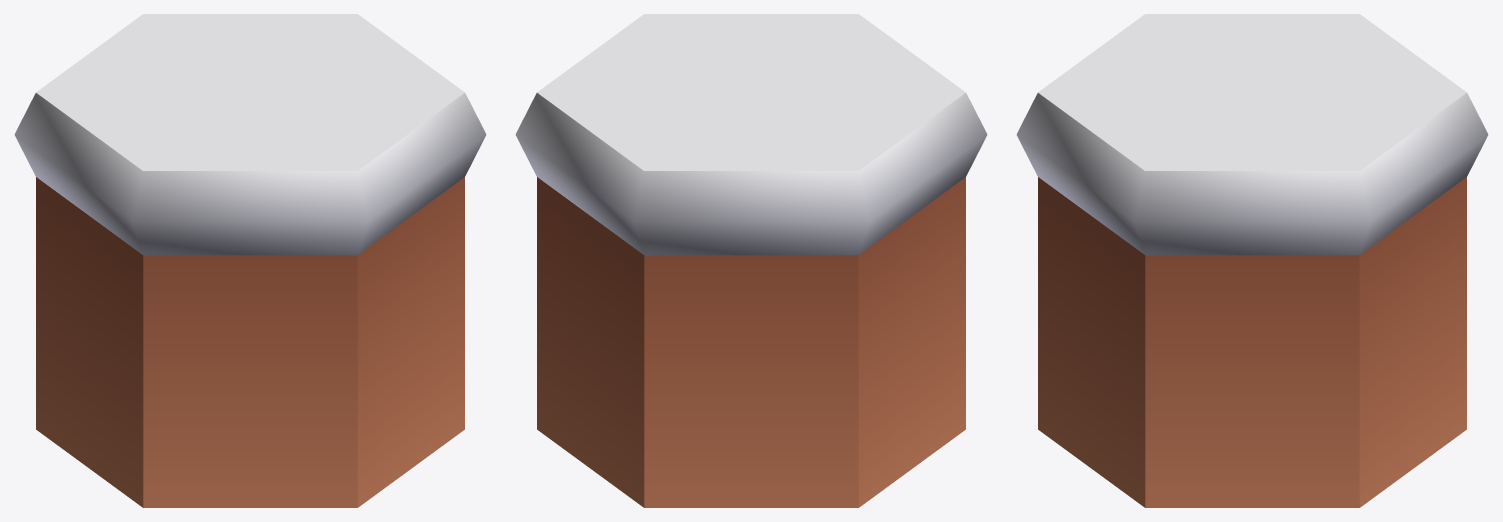
File: block_snow_hexagon.glb
3 renders of one model, left to right at view 1: azimuth 30°, elevation 25°; view 2: azimuth 150°, elevation 25°; view 3: azimuth 270°, elevation 25°, orthographic.
Parts seen in each view (by area): view 1: block-snow-hexagon; view 2: block-snow-hexagon; view 3: block-snow-hexagon.
Boxes of the visible parts, x1,y1,x2,y2 form: block-snow-hexagon: (14, 14, 486, 507); block-snow-hexagon: (515, 14, 987, 507); block-snow-hexagon: (1016, 14, 1488, 507).
Bounding box in the file's own units: 1.1 × 1 × 1.27.
Materials: 1 (1 with a texture image).
